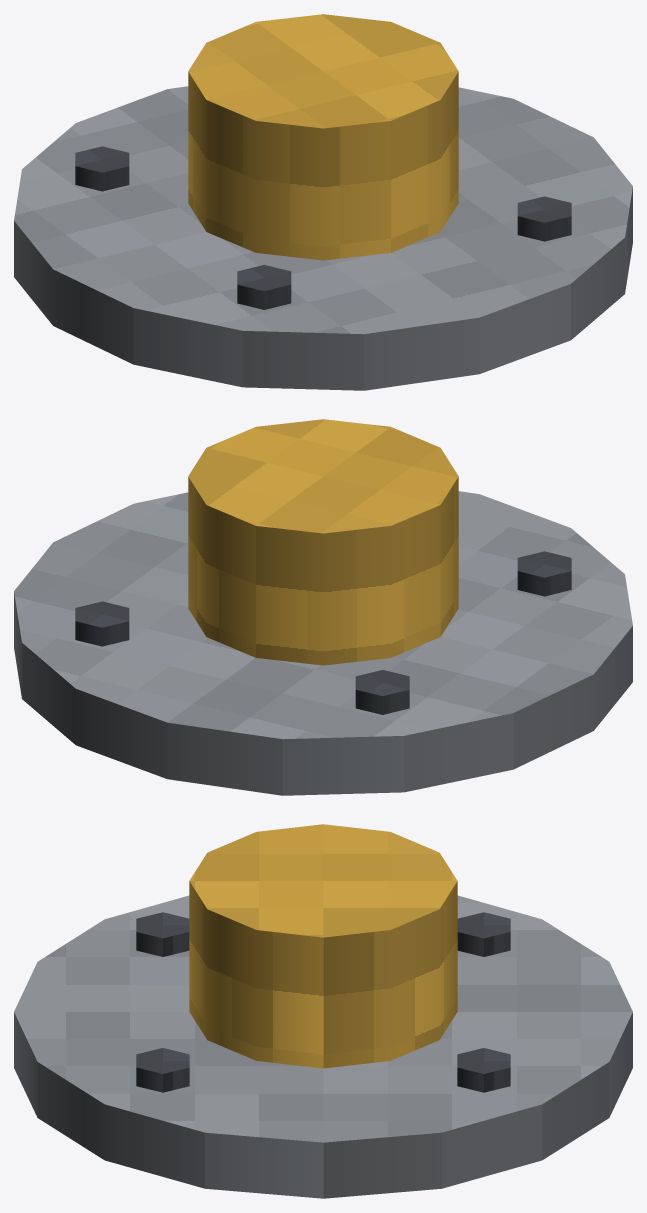
Rendered from hand_crank.obj.
3 renders of one model, top to bottom at view 1: azimuth 30°, elevation 25°; view 2: azimuth 150°, elevation 25°; view 3: azimuth 270°, elevation 25°, orthographic.
Bounding box in the file's own units: 0.6 × 0.2 × 0.6.
